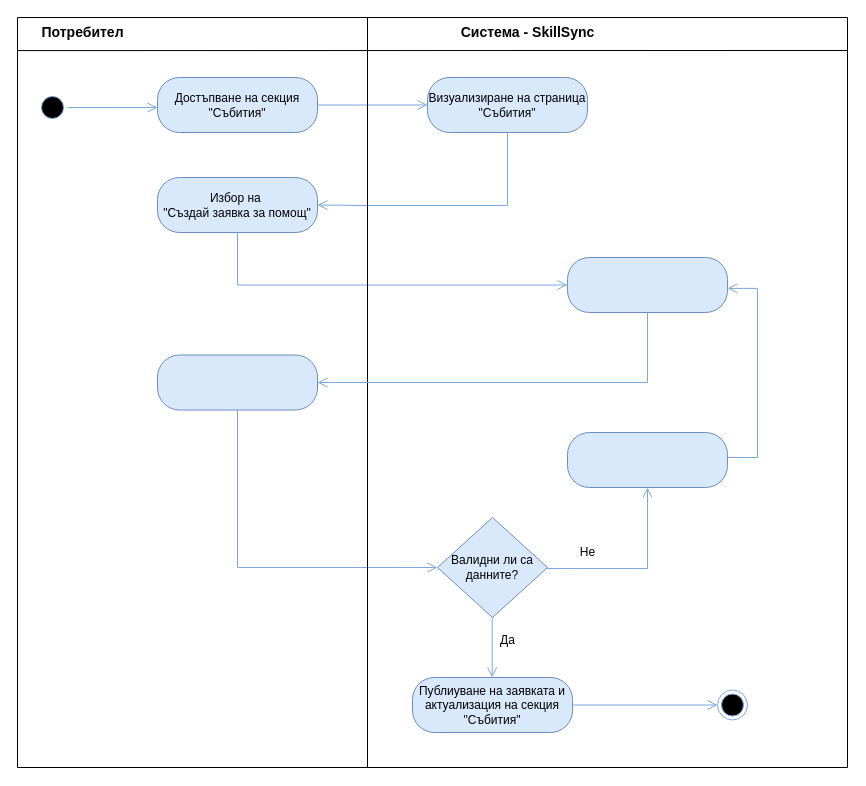
The diagram is 866 pixels wide and 786 high, and some of its shapes have lost their labels. Here are the shapes that lost their labels. From the top down, the centre of each, then its label:
[647,284]: Визуализиране на форма за създаване на събитие
[237,382]: Попълване на данните
[647,460]: Извеждане на съобщение за некоректни данни
